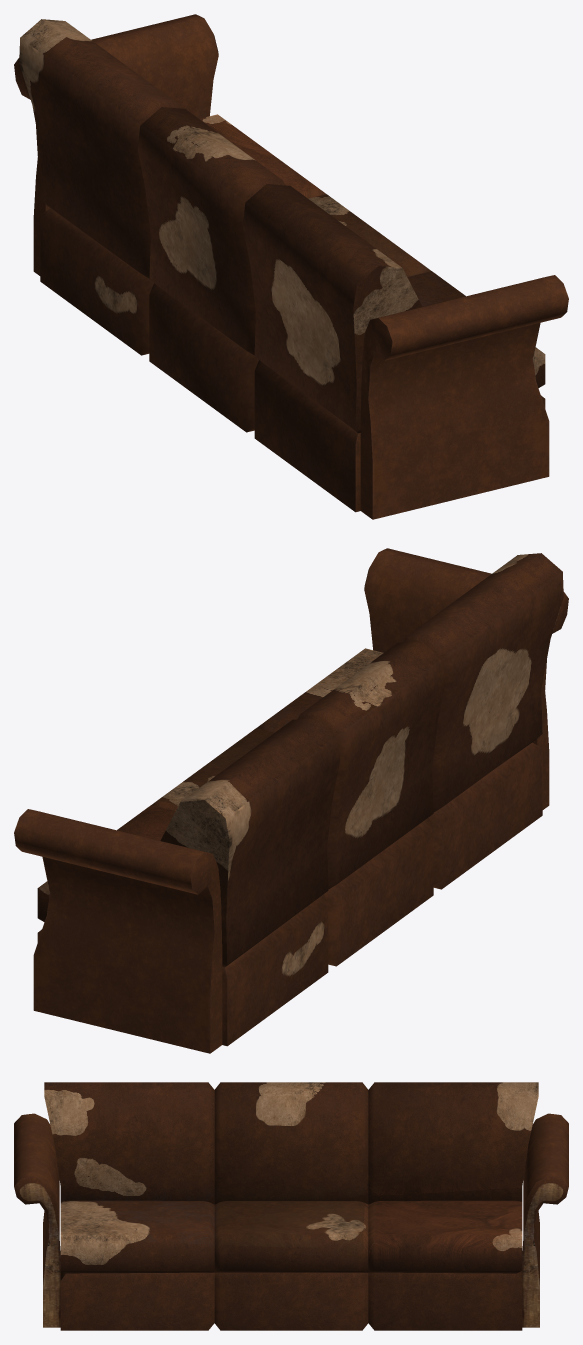
Rendered from Old_Leather_Sofa.glb.
3 views of the same model, one above another, from view 1: azimuth 30°, elevation 25°; view 2: azimuth 150°, elevation 25°; view 3: azimuth 270°, elevation 25° (orthographic). The views are drawn at different scales.
Visible parts, largest first — view 1: Cube.006_MI_LongSofa_02_0, Cube.007_MI_LongSofa_02_0; view 2: Cube.006_MI_LongSofa_02_0, Cube.007_MI_LongSofa_02_0; view 3: Cube.006_MI_LongSofa_02_0, Cube.007_MI_LongSofa_02_0.
Part boxes in pixels (x1,y1,x2,y2): Cube.006_MI_LongSofa_02_0: [19, 19, 545, 512]; Cube.007_MI_LongSofa_02_0: [14, 14, 568, 519]; Cube.006_MI_LongSofa_02_0: [37, 553, 563, 1046]; Cube.007_MI_LongSofa_02_0: [14, 548, 568, 1053]; Cube.006_MI_LongSofa_02_0: [44, 1082, 538, 1330]; Cube.007_MI_LongSofa_02_0: [14, 1113, 568, 1327].
Bounding box in the file's own units: 0.8492 × 1.01 × 2.76.
Materials: 1 (1 with a texture image).
